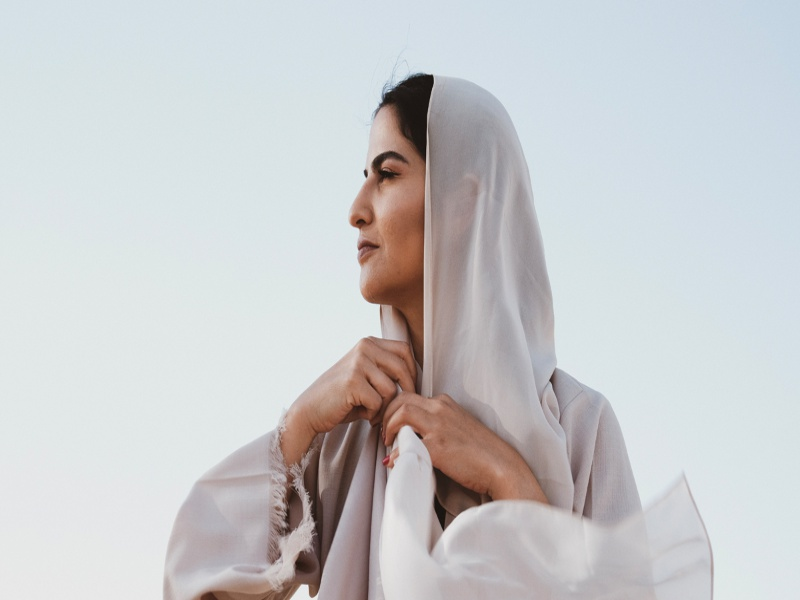TsisyArotava: (323, 87, 441, 324)
